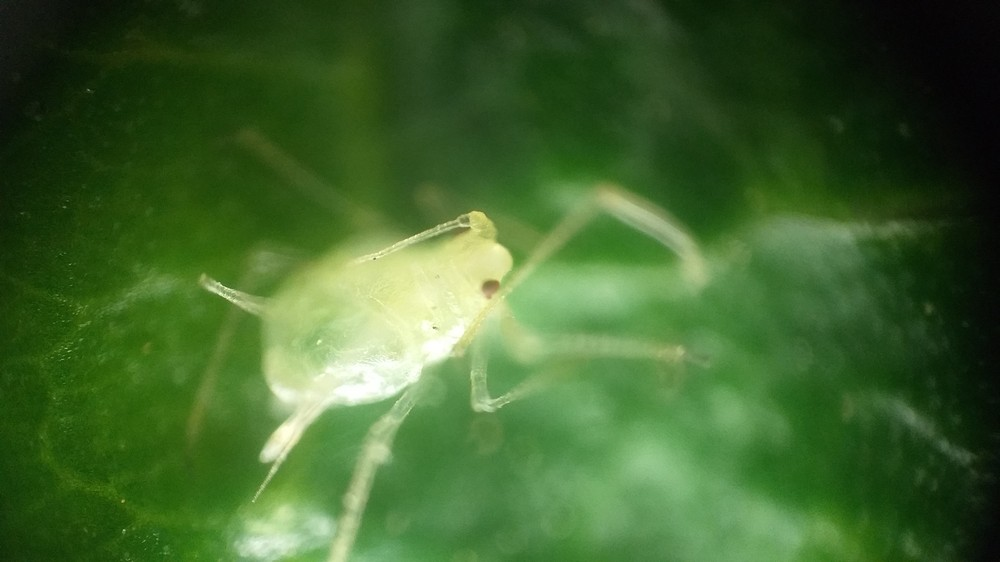Pulgon: (188, 142, 732, 507)
